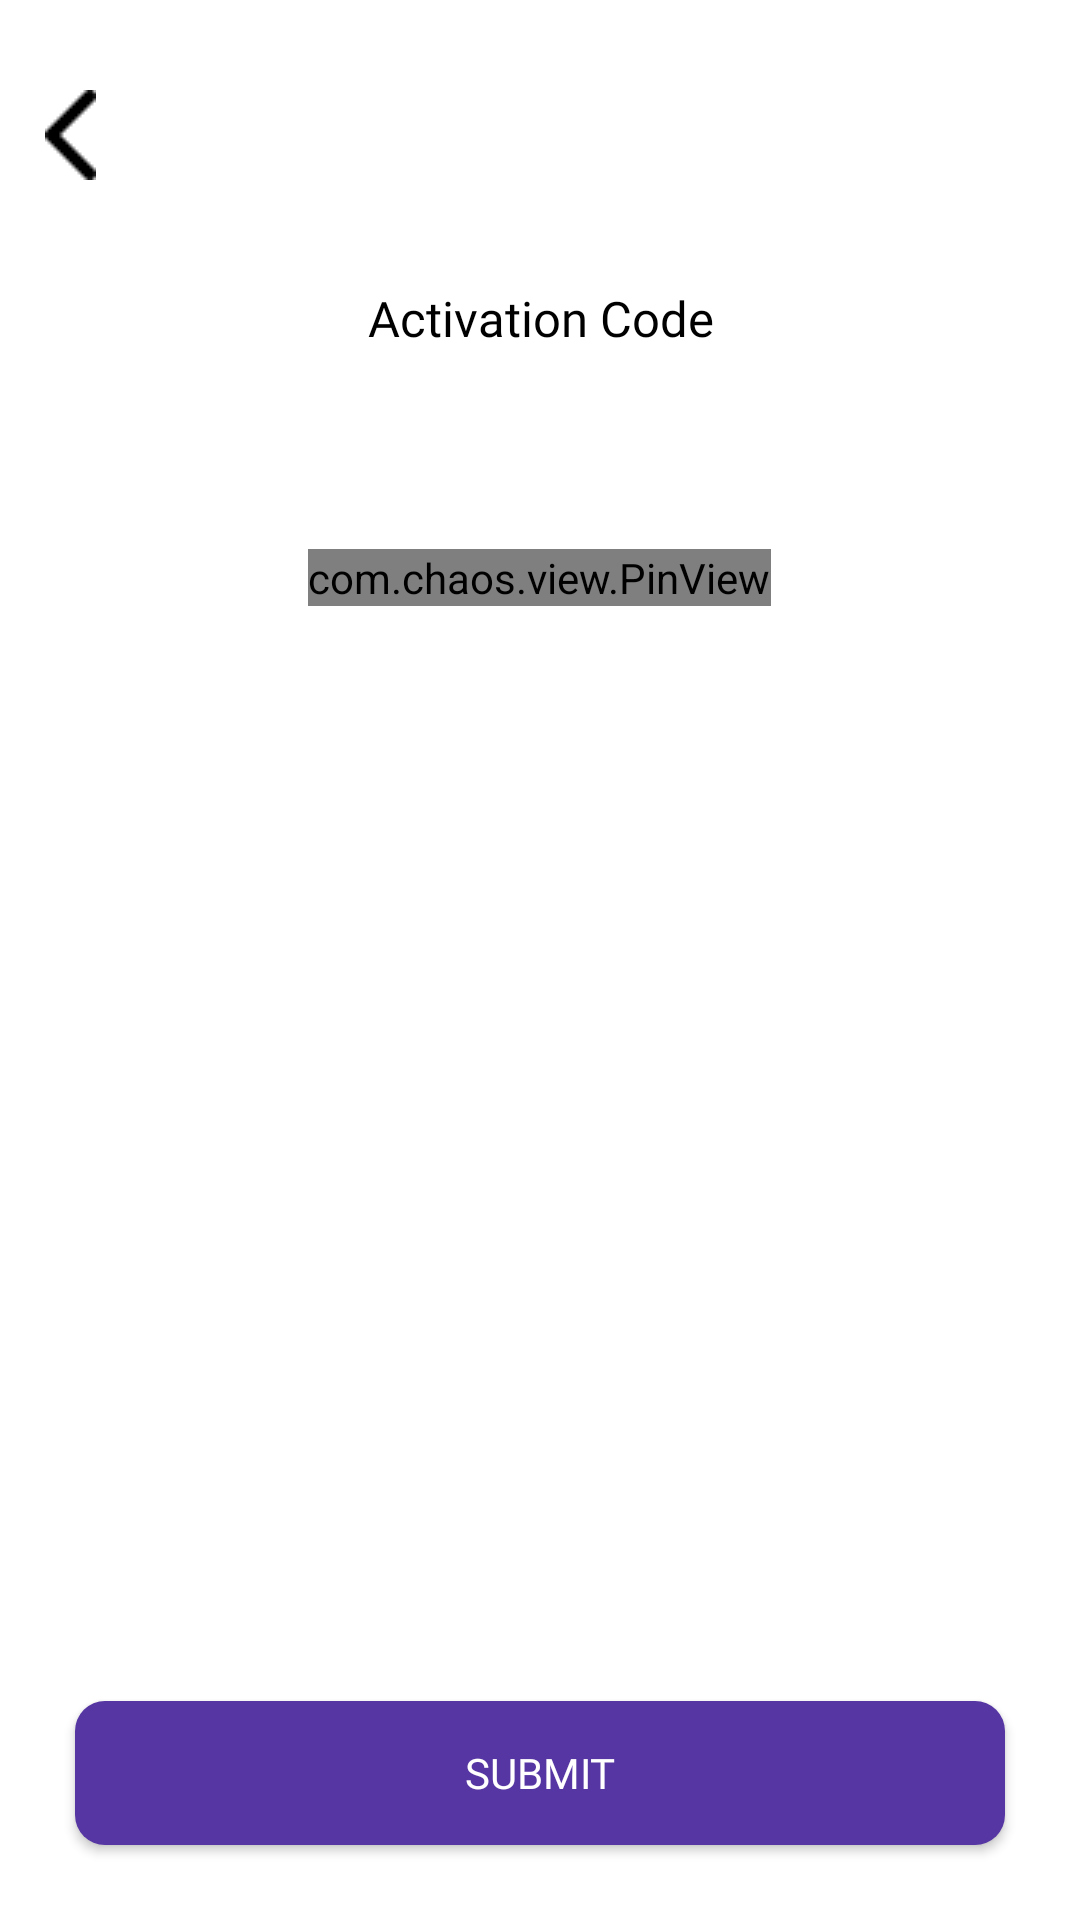

Named icons in this screenshot (1080 x 1920) and their bounding boxes, (x1, y1, x2, y2):
back: (45, 90, 96, 180)
